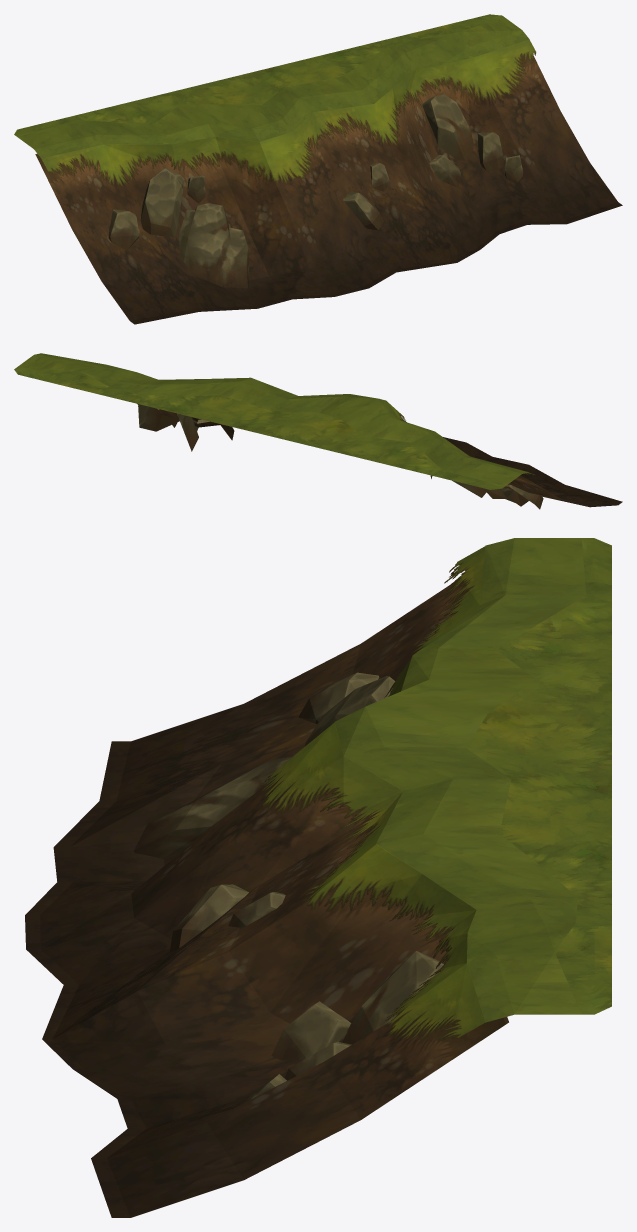
The model's file is tundra_straight_riverbed01.fbx.
3 renders of one model, top to bottom at view 1: azimuth 30°, elevation 25°; view 2: azimuth 150°, elevation 25°; view 3: azimuth 270°, elevation 25°, orthographic. The views are drawn at different scales.
Parts seen in each view (by area): view 1: obj3.007; view 2: obj3.007; view 3: obj3.007.
Boxes of the visible parts, bbox=[...] form: obj3.007: bbox=[14, 14, 622, 324]; obj3.007: bbox=[14, 353, 622, 509]; obj3.007: bbox=[25, 538, 611, 1217].
Size of the model in its own units: 20 by 4.29 by 10.41.
